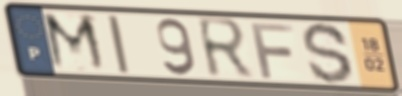9: (153, 16, 198, 77)
F: (247, 20, 297, 81)
I: (104, 13, 133, 75)
M: (39, 10, 111, 75)
R: (193, 15, 257, 82)
S: (299, 21, 356, 86)
